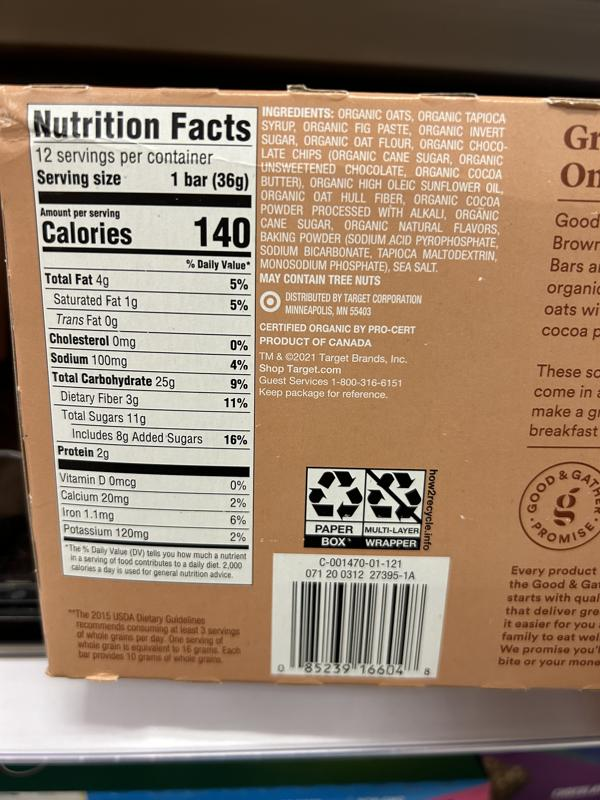ingredients: (257, 104, 509, 273)
